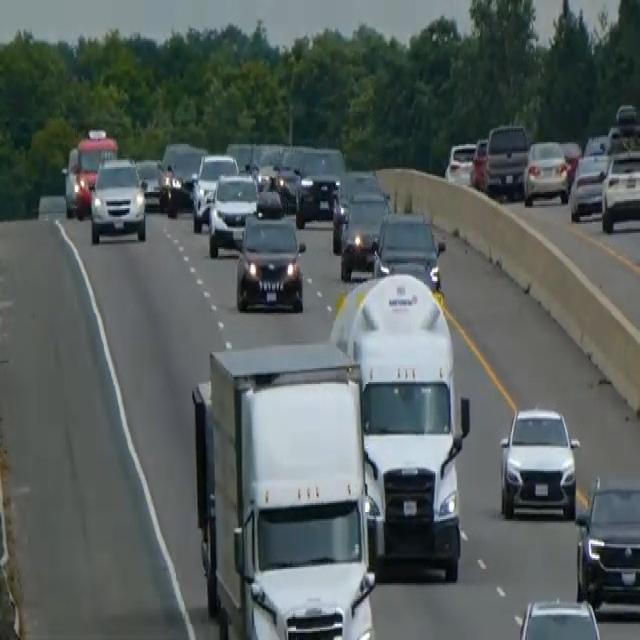bus: (190, 340, 377, 638)
car: (498, 404, 580, 519), (574, 473, 639, 615), (235, 210, 306, 313), (372, 208, 445, 292), (89, 154, 147, 243), (339, 189, 390, 279), (207, 170, 259, 258), (330, 167, 380, 251), (294, 146, 345, 228), (74, 128, 117, 219), (191, 151, 238, 231), (516, 596, 602, 638), (483, 121, 529, 199), (158, 139, 206, 213), (600, 147, 639, 233), (522, 137, 569, 206), (569, 151, 609, 221), (274, 144, 307, 210), (135, 156, 163, 210), (444, 140, 476, 187), (60, 144, 79, 215), (255, 144, 283, 188), (469, 135, 488, 190), (559, 139, 581, 185), (225, 140, 254, 174), (583, 132, 610, 160)
lorry: (331, 268, 471, 580)
motorcycle: (157, 162, 182, 217)
